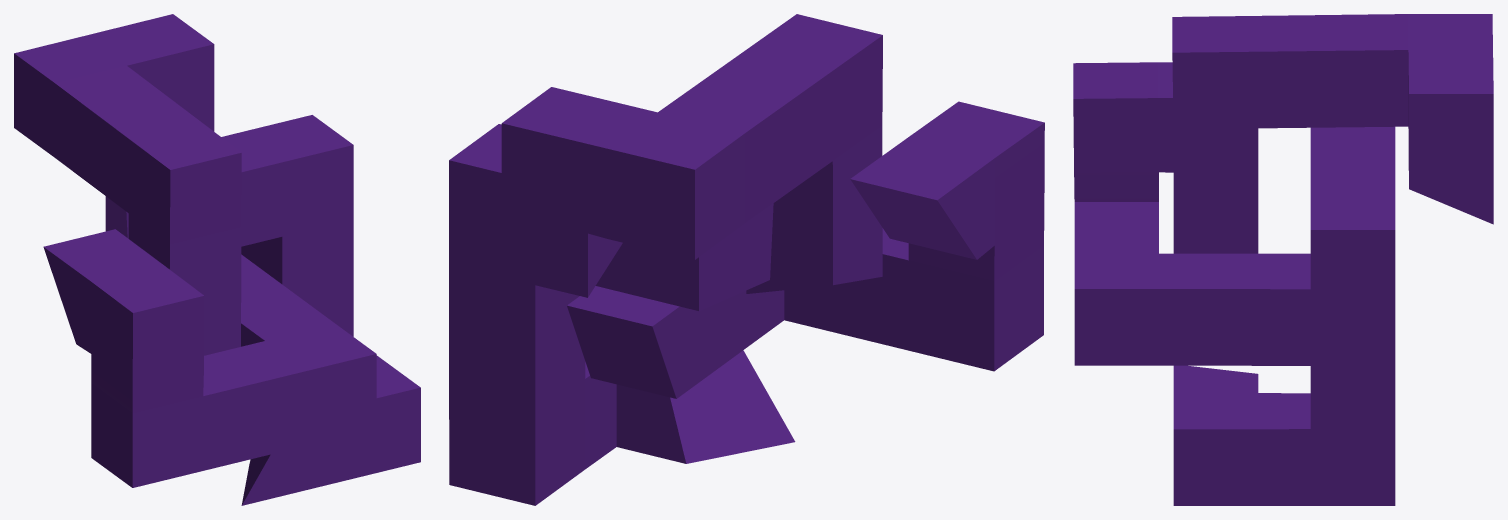
The model's file is Figure.glb.
The picture shows the model from 3 angles, left to right: view 1: azimuth 30°, elevation 25°; view 2: azimuth 150°, elevation 25°; view 3: azimuth 270°, elevation 25°; orthographic projection. The views are drawn at different scales.
Visible parts, largest first — view 1: Object_2; view 2: Object_2; view 3: Object_2.
Boxes of the visible parts, bbox=[...] form: Object_2: bbox=[14, 14, 420, 505]; Object_2: bbox=[449, 14, 1044, 505]; Object_2: bbox=[1073, 14, 1493, 505].
Size of the model in its own units: 4.06 by 4.11 by 4.28.
